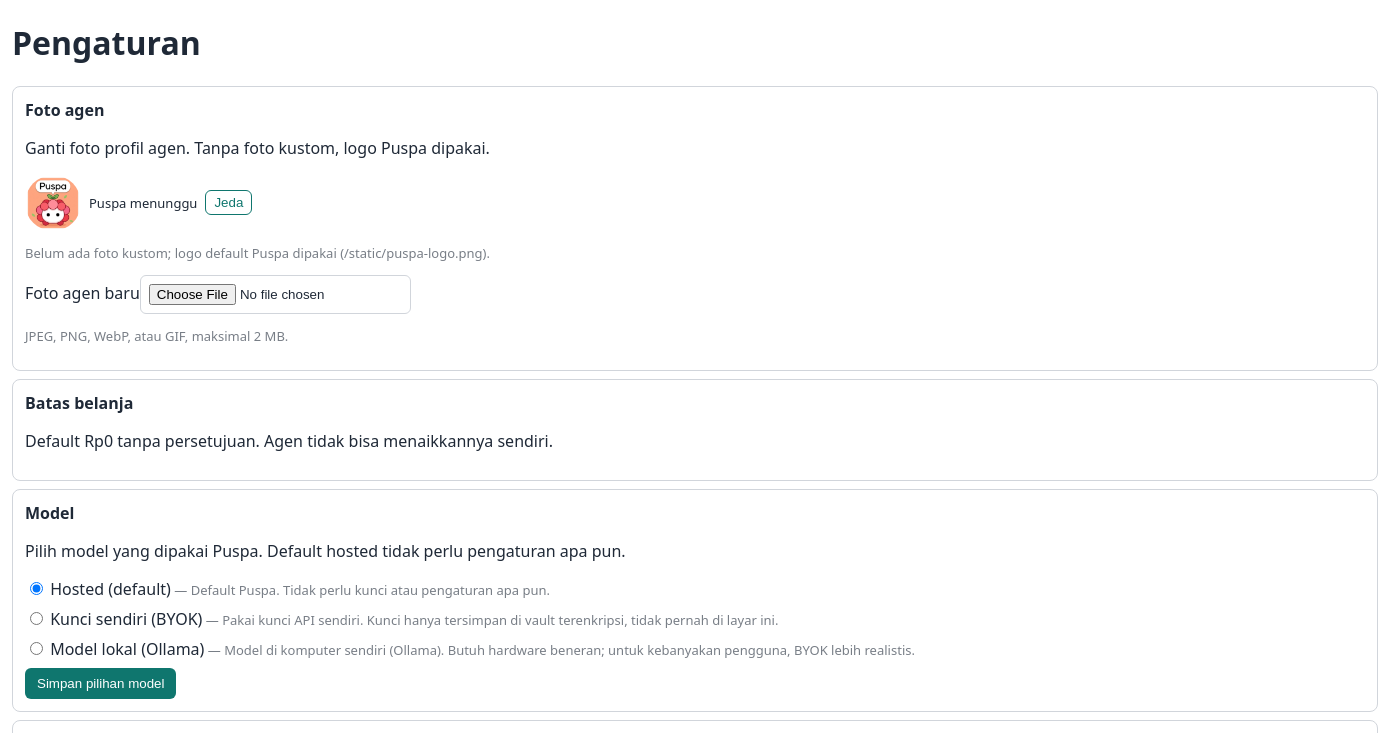
Scenario: SettingsScreen model picker › shows the local base URL and model fields when local is picked
Expected: the text "Model" is shown, x1=25 y1=502 x2=74 y2=524
Click the radio button labelled "Model lokal" at point(36, 648), box x1=30 y1=642 x2=43 y2=655
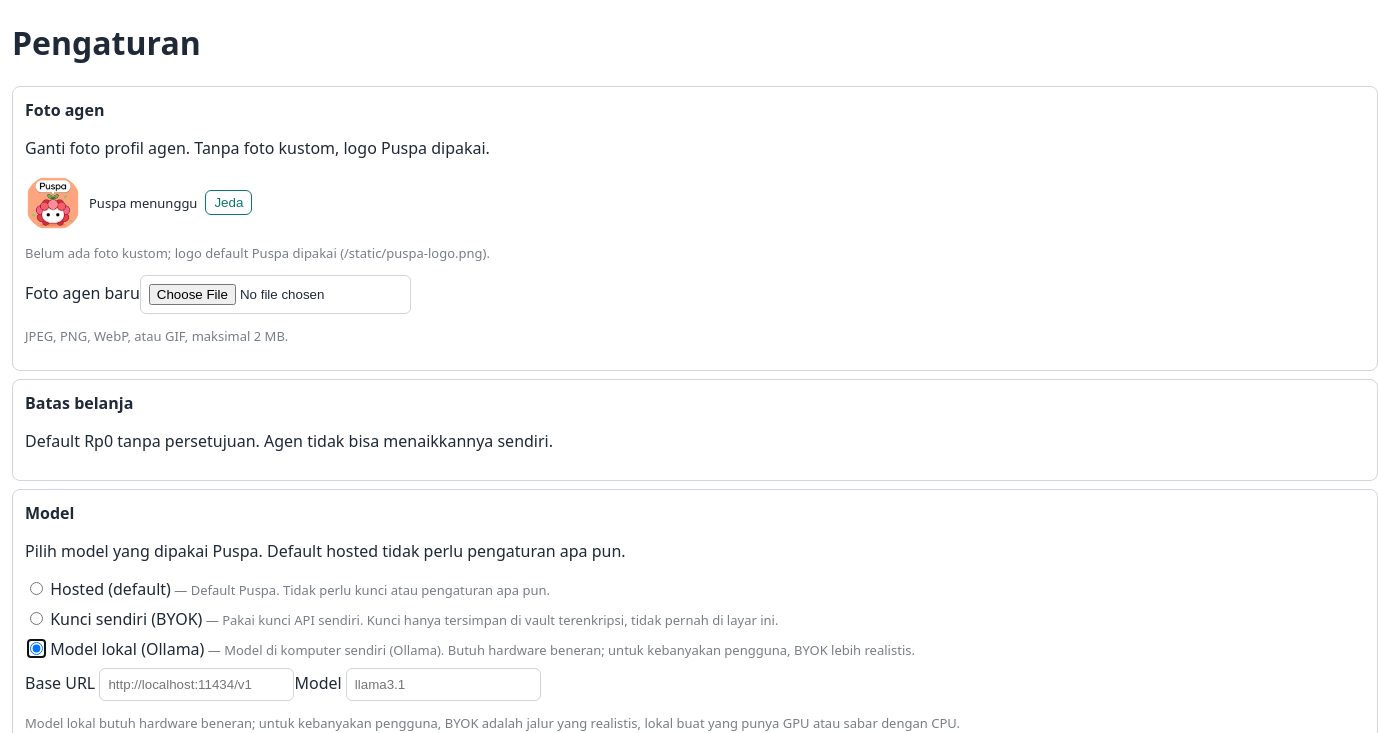
Now the field with placeholder "http://localhost:11434/v1" is shown, box x1=99 y1=668 x2=294 y2=701
Now the field with placeholder "llama3.1" is shown, box x1=346 y1=668 x2=541 y2=701
